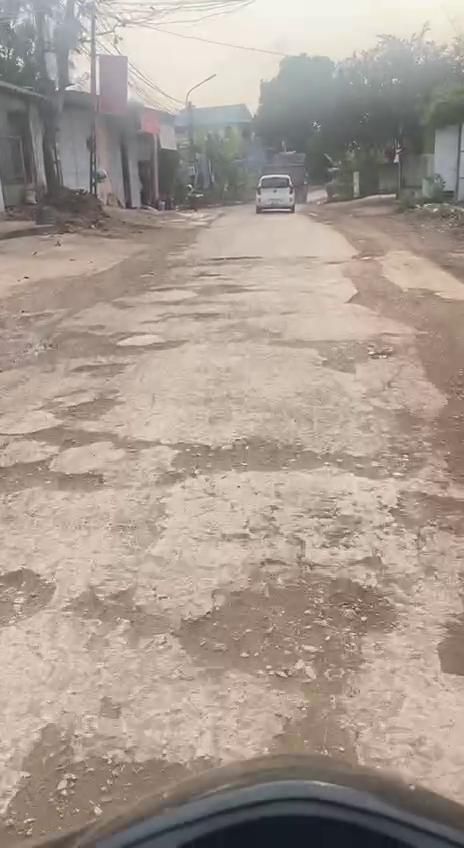pothole: (174, 556, 402, 694), (0, 724, 223, 848), (0, 388, 137, 495), (157, 437, 425, 485), (67, 576, 172, 651), (273, 332, 396, 379), (388, 487, 464, 552), (0, 560, 66, 630), (436, 598, 464, 682)
